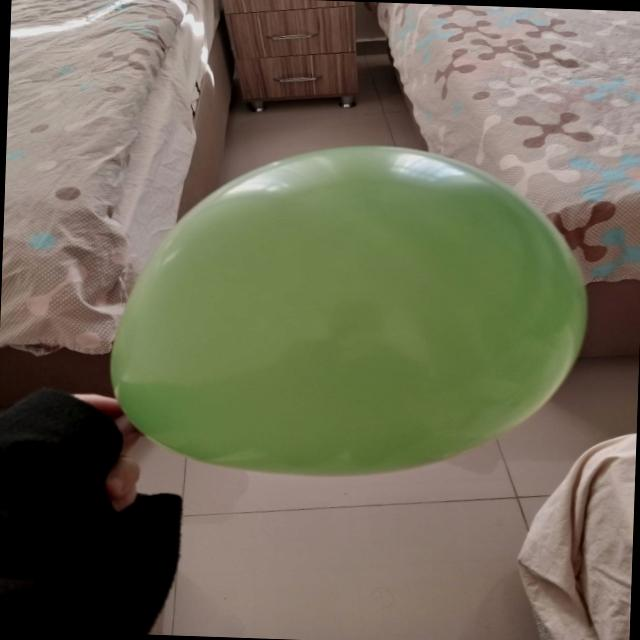balloon: (111, 146, 586, 475)
